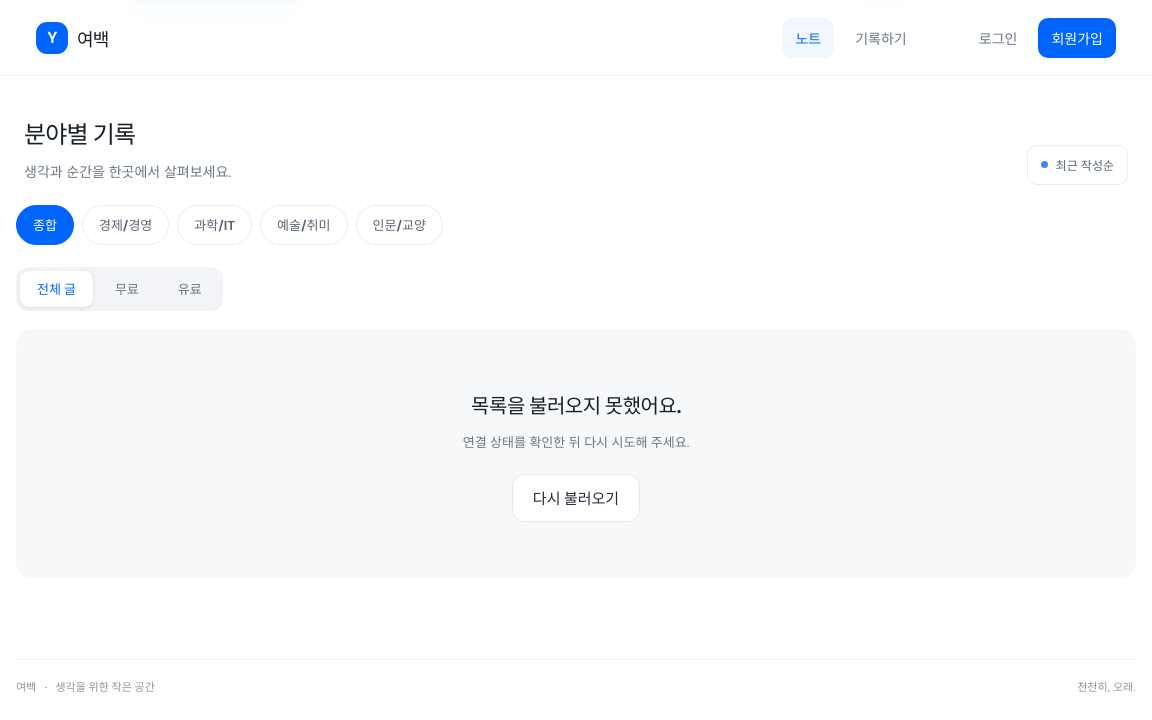
Test: 여백 페이지 흐름 › 목록 오류를 재시도해 다시 불러온다
(page scrolled)
Click the button "다시 불러오기". click: click(576, 498)
box: 512,474 -> 640,522
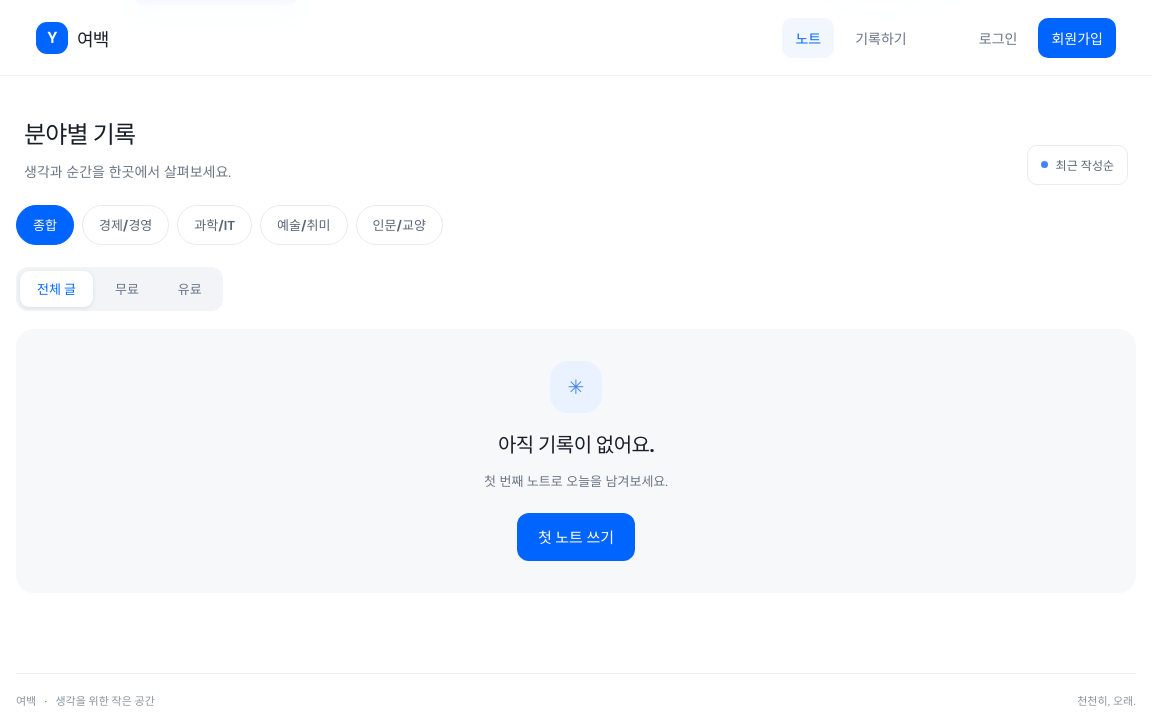
Result: the text "아직 기록이 없어요." is shown at 498,429 -> 654,458
